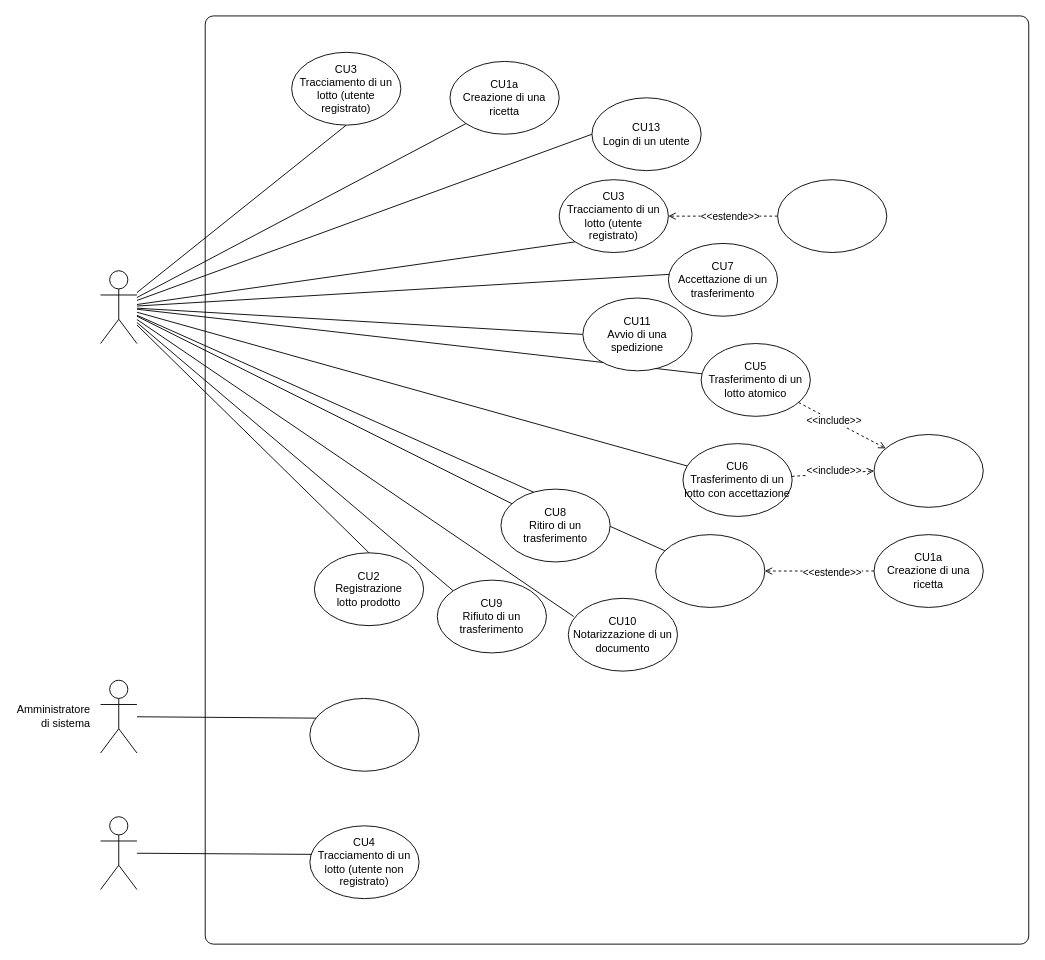
Some shapes in this 1045 by 960 pixel diagram are drawn without their labels. Each missing label, with the centre of its shape:
CU1 Registrazione di un tipo di prodotto: point (710, 570)
CU12 Registrazione utente: point (364, 734)
CU3a Notarizzazione di uno step di processo: point (832, 216)
CU6x Traferimento: point (928, 470)
Utente non registrato: point (118, 853)
Utente registrato: point (118, 307)
